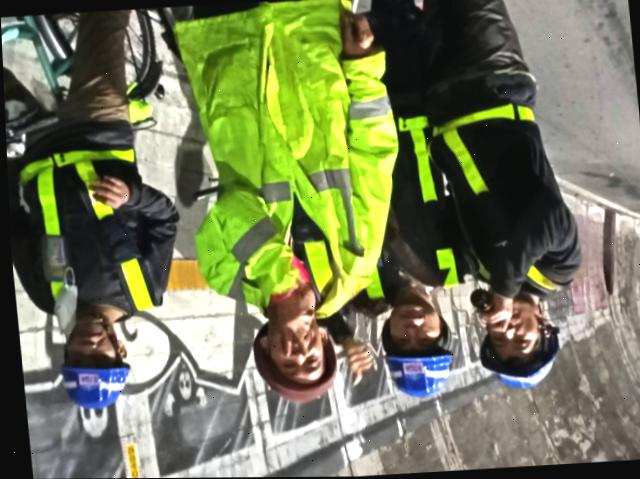helmet: (476, 336, 562, 393), (382, 349, 455, 401), (59, 364, 131, 406)
vest: (182, 0, 386, 318), (431, 106, 576, 300), (22, 142, 151, 324), (342, 120, 454, 300)
